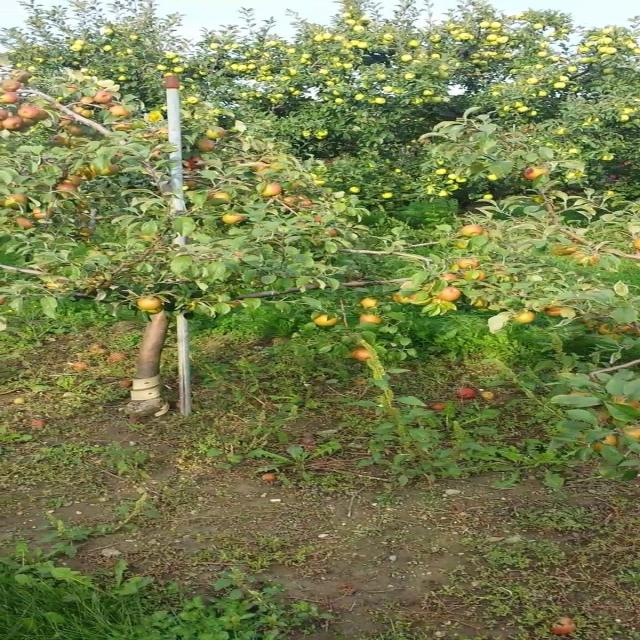apple: (589, 436, 620, 453), (106, 104, 133, 118), (611, 396, 638, 410), (141, 296, 164, 311), (184, 156, 206, 171), (554, 244, 580, 256), (440, 288, 462, 301), (575, 252, 597, 265), (454, 260, 482, 270), (461, 224, 484, 236), (596, 324, 619, 336), (319, 316, 341, 328), (262, 184, 284, 196), (92, 92, 114, 104), (99, 164, 121, 176), (355, 348, 375, 361), (205, 128, 228, 139), (77, 168, 98, 180), (6, 196, 28, 207), (56, 184, 78, 195), (35, 208, 55, 220), (163, 76, 181, 89), (20, 108, 41, 119), (518, 312, 537, 324), (63, 176, 85, 186), (77, 108, 96, 119), (6, 120, 23, 132), (198, 140, 215, 152), (618, 324, 638, 334), (412, 292, 432, 302), (454, 260, 476, 269), (625, 428, 639, 442), (13, 72, 30, 83), (6, 92, 21, 104), (6, 80, 21, 92), (284, 196, 299, 208), (362, 316, 384, 324), (113, 124, 135, 132), (77, 96, 94, 106), (397, 292, 411, 304), (525, 168, 539, 180), (212, 192, 233, 200), (156, 128, 171, 139), (547, 308, 567, 316), (70, 128, 87, 137), (77, 228, 94, 237), (532, 168, 549, 177), (468, 272, 487, 280), (184, 180, 199, 190), (63, 116, 78, 126), (56, 136, 71, 146), (20, 220, 36, 229), (77, 200, 91, 210), (362, 300, 379, 308), (227, 216, 244, 224), (532, 168, 549, 176), (326, 228, 341, 237), (236, 252, 247, 263), (255, 164, 270, 172), (440, 276, 460, 282), (298, 200, 313, 208), (454, 240, 469, 248), (42, 108, 52, 120), (63, 88, 80, 95), (77, 100, 94, 107), (20, 120, 37, 127), (589, 256, 603, 264), (49, 284, 64, 291), (476, 300, 489, 308), (312, 216, 325, 224), (141, 236, 160, 241), (0, 112, 11, 119), (156, 152, 164, 157)
